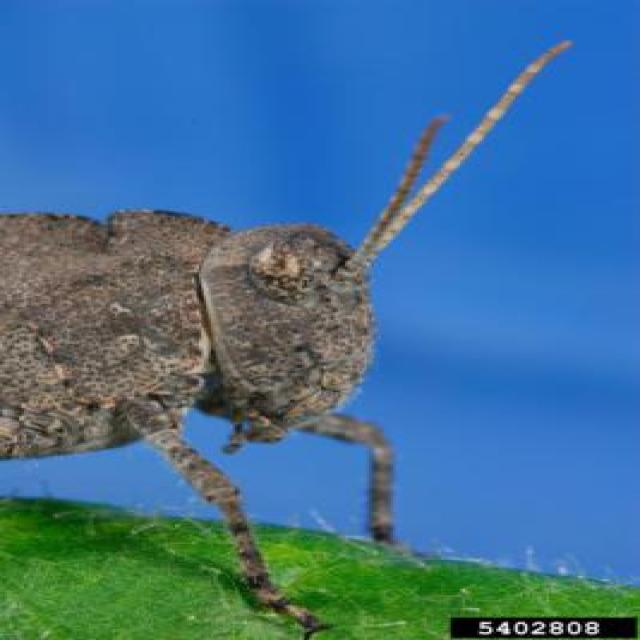antennae: (358, 44, 572, 260), (360, 119, 444, 251)
body: (0, 216, 376, 453)
insect: (0, 40, 574, 633)
legs: (124, 403, 322, 631), (303, 409, 407, 547)
mouthpart: (195, 371, 322, 456)
